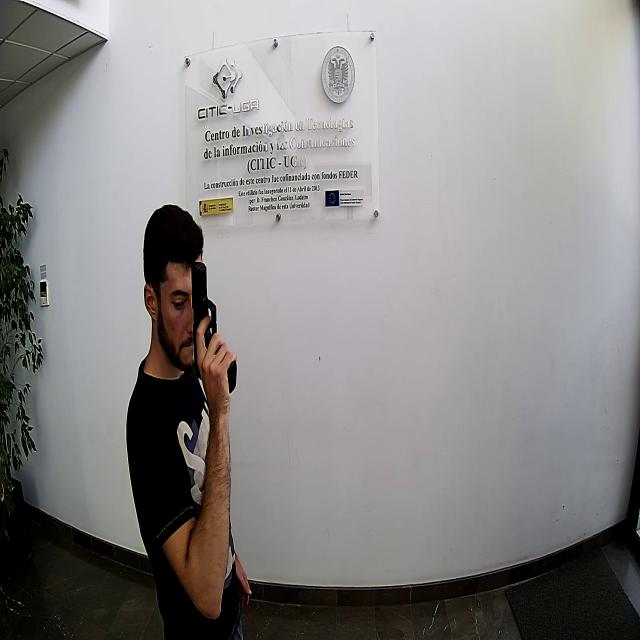pistol: (192, 259, 217, 382)
